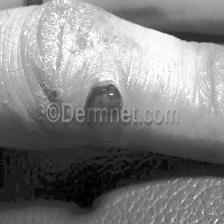Benign Marking or Mole: (85, 81, 126, 142)
